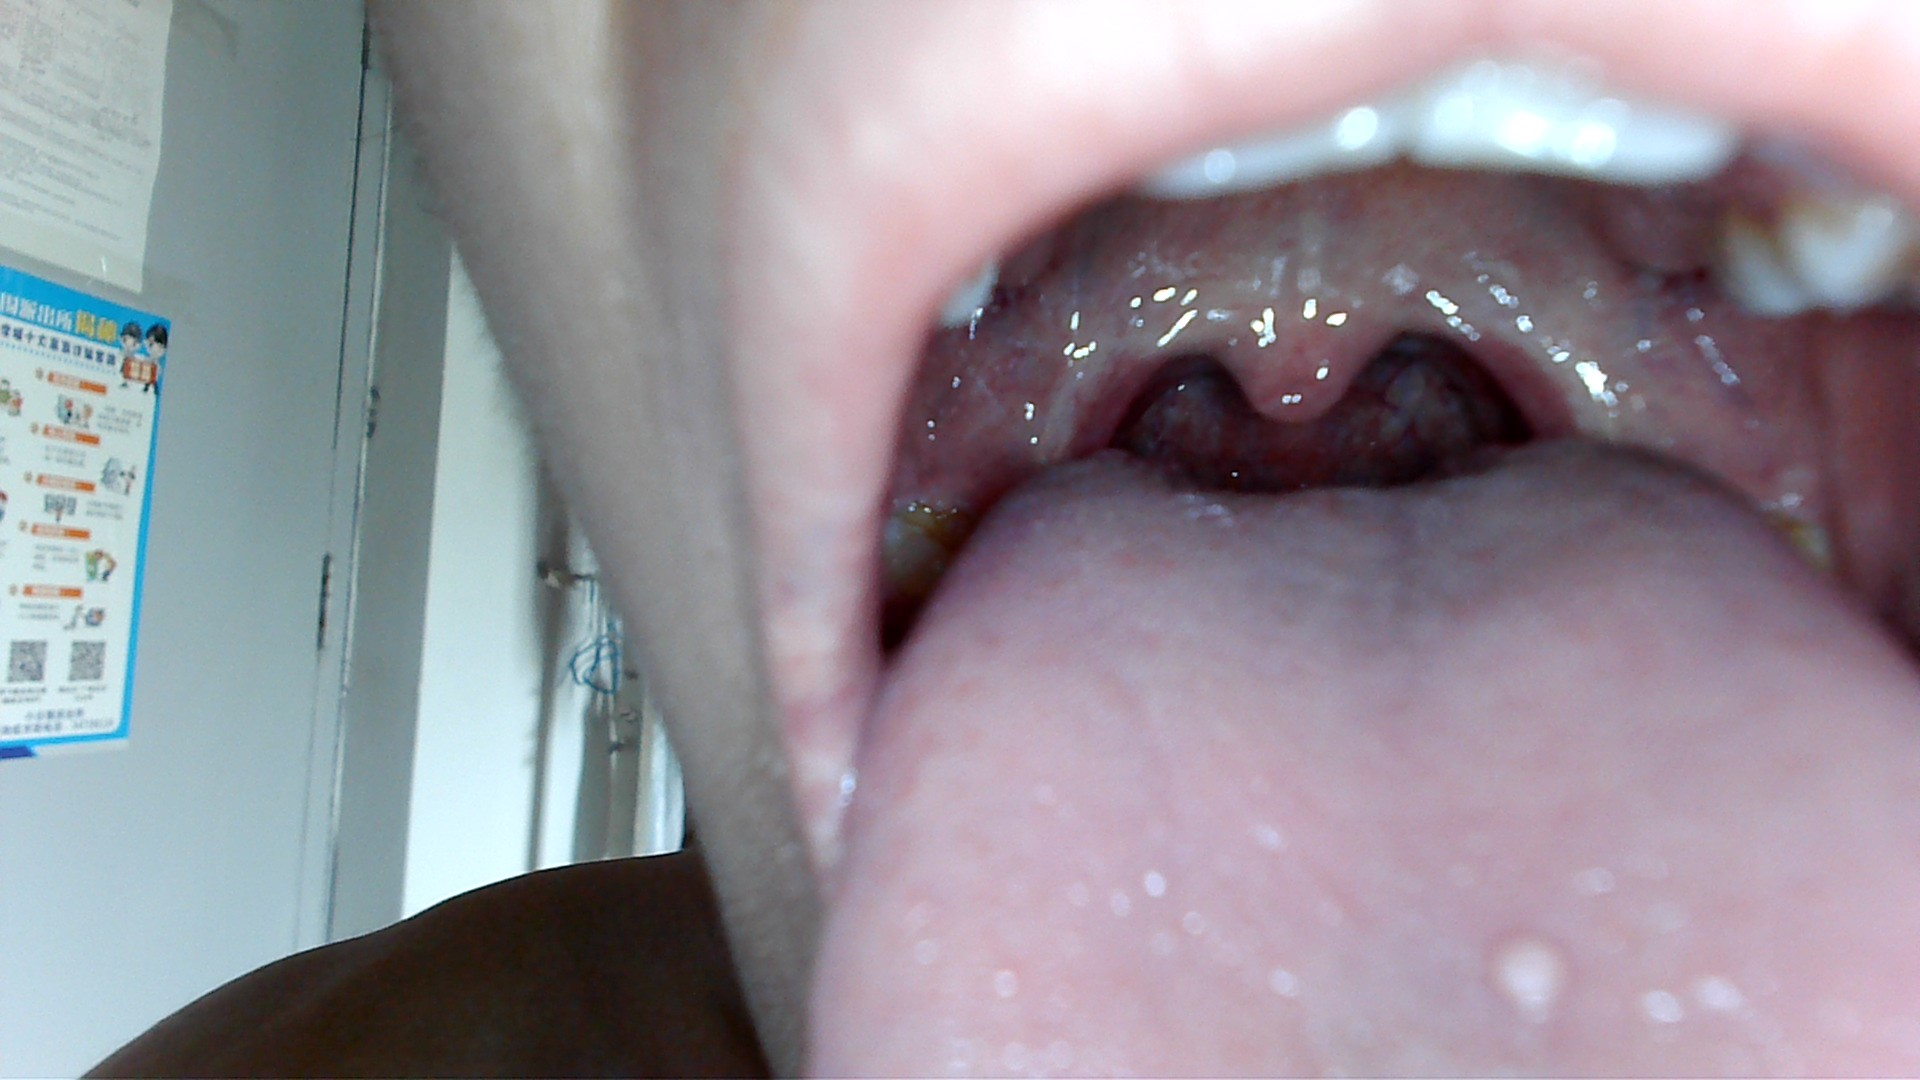throat: (1478, 305, 1706, 440), (978, 340, 1134, 468)
